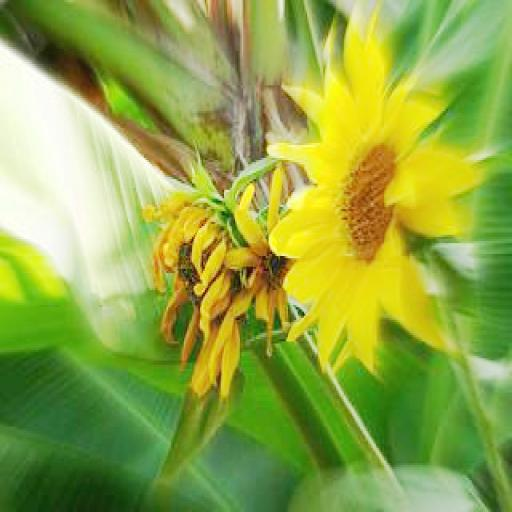sunflower: (269, 8, 469, 365), (146, 192, 268, 397)
